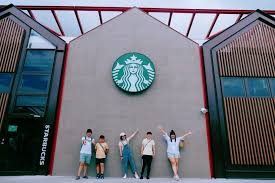people: (119, 133, 139, 179), (164, 130, 182, 179), (77, 128, 92, 178), (92, 136, 106, 179), (140, 129, 152, 178)
